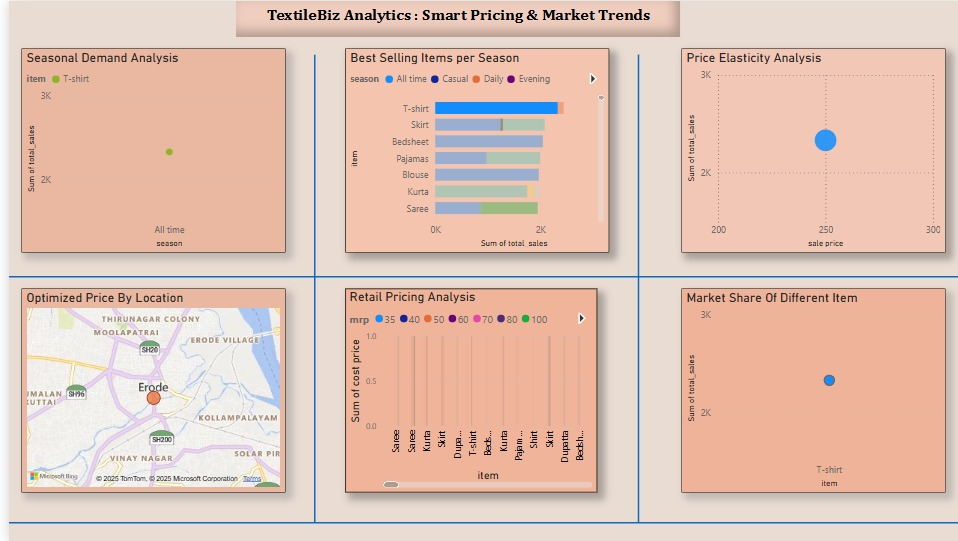

The page's visual inventory and layout, read from the dashboard file:
{"tool":"powerbi","page":{"name":"Page 1","canvas":[1280,720],"ordinal":0},"visuals":[{"type":"clusteredColumnChart","title":"Retail Pricing Analysis ","fields":{"Category":["Final_ML_Pricing_Dataset.item"],"Y":["Sum(Final_ML_Pricing_Dataset.cost price)"],"Series":["Final_ML_Pricing_Dataset.mrp"]},"box":[448,384,336,272],"z":0},{"type":"stackedAreaChart","title":"Seasonal Demand Analysis","fields":{"Category":["Final_ML_Pricing_Dataset.season"],"Y":["Sum(Final_ML_Pricing_Dataset.total_sales)"],"Series":["Final_ML_Pricing_Dataset.item"]},"box":[16,64,352,272],"z":1000},{"type":"barChart","title":"Best Selling Items per Season","fields":{"Y":["Sum(Final_ML_Pricing_Dataset.total_sales)"],"Category":["Final_ML_Pricing_Dataset.item"],"Series":["Final_ML_Pricing_Dataset.season"]},"box":[448,64,352,272],"z":2000},{"type":"map","title":"Optimized Price By Location","fields":{"Category":["Final_ML_Pricing_Dataset.location"],"Size":["Sum(Final_ML_Pricing_Dataset.optimized price)"]},"box":[16,384,352,272],"z":3000},{"type":"scatterChart","title":"Price Elasticity Analysis","fields":{"X":["Final_ML_Pricing_Dataset.sale price"],"Y":["Sum(Final_ML_Pricing_Dataset.total_sales)"],"Size":["Sum(Final_ML_Pricing_Dataset.competitor price)"]},"box":[896,64,352,272],"z":4000},{"type":"stackedAreaChart","title":"Market Share Of Different Item ","fields":{"Category":["Final_ML_Pricing_Dataset.item"],"Y":["Sum(Final_ML_Pricing_Dataset.total_sales)"]},"box":[896,384,352,272],"z":5000},{"type":"shape","box":[0,272,1280,192],"z":6000},{"type":"shape","box":[312,72,192,624],"z":7000},{"type":"shape","box":[744,72,192,624],"z":8000},{"type":"shape","box":[0,672,1280,48],"z":9000},{"type":"textbox","box":[304,0,592,48],"z":10000}]}

Visuals, with their boxes in screenshot pixels (x1, y1, x2, y2), scaled from the page's 1280x720 canvas onto the 958x541 screenshot:
"Retail Pricing Analysis " clusteredColumnChart: box=[335, 289, 587, 493]
"Seasonal Demand Analysis" stackedAreaChart: box=[12, 48, 275, 252]
"Best Selling Items per Season" barChart: box=[335, 48, 599, 252]
"Optimized Price By Location" map: box=[12, 289, 275, 493]
"Price Elasticity Analysis" scatterChart: box=[671, 48, 934, 252]
"Market Share Of Different Item " stackedAreaChart: box=[671, 289, 934, 493]
shape: box=[0, 204, 957, 349]
shape: box=[234, 54, 377, 523]
shape: box=[557, 54, 701, 523]
shape: box=[0, 505, 957, 540]
textbox: box=[228, 0, 671, 36]
